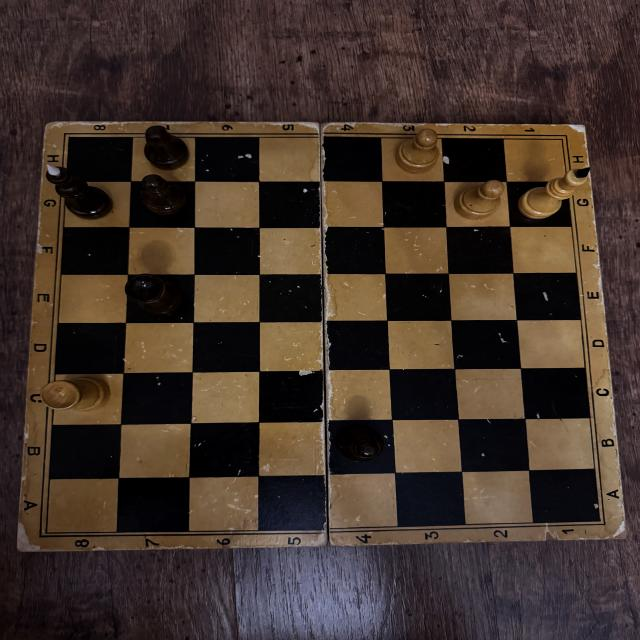black-king: (42, 163, 113, 219)
black-pawn: (141, 125, 194, 172), (138, 174, 190, 217), (337, 424, 385, 463)
black-rook: (123, 273, 186, 319)
white-king: (515, 168, 592, 220)
white-pawn: (396, 128, 441, 173), (456, 179, 504, 220)
white-rook: (40, 375, 109, 414)
